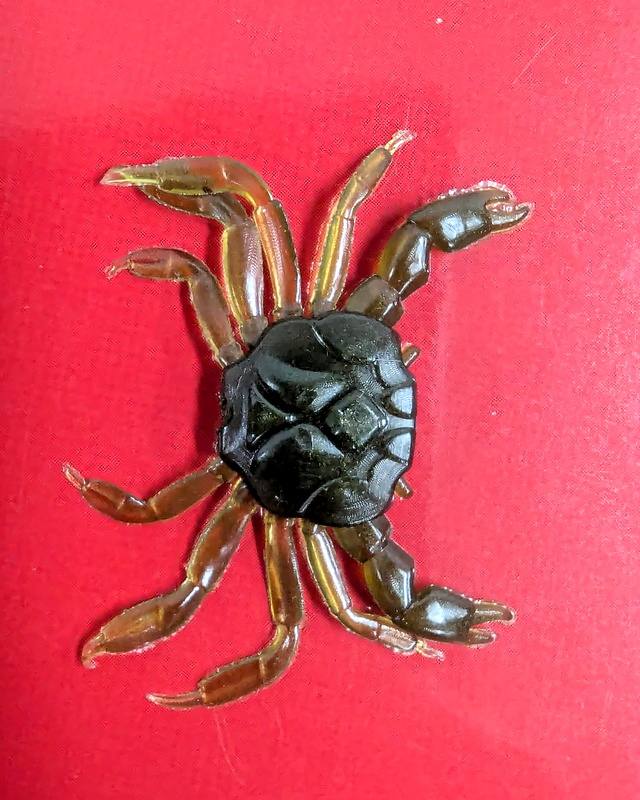crab2: (59, 125, 538, 712)
